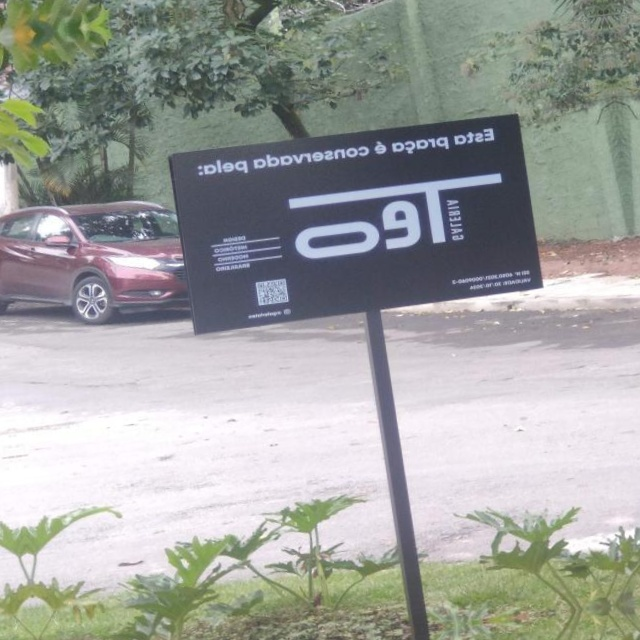qr-code: (257, 280, 287, 304)
